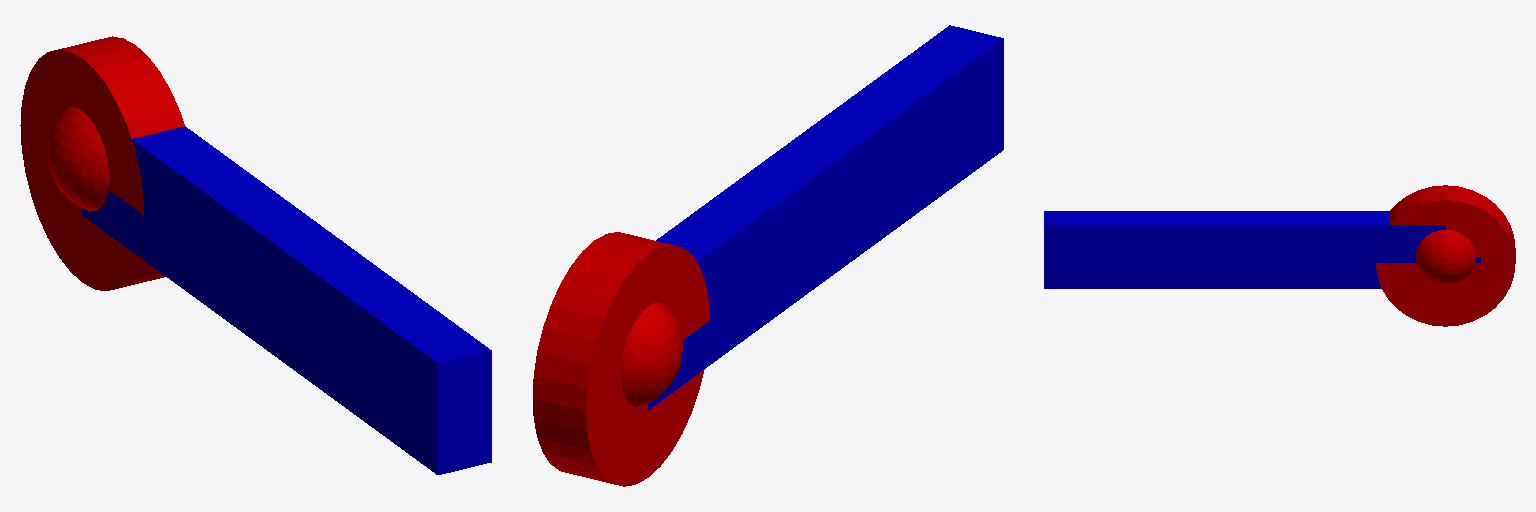
robot.urdf — TwoLinkStruct2718874759:
<?xml version="1.0"?>
<robot  name="TwoLinkStruct2718874759" >
 <material  name="blue" >
  <color  rgba="0 0 0.8 1.0" />
 </material>
 <material  name="red" >
  <color  rgba="0.8 0 0 1.0" />
 </material>
 <link  name="base_link" >
  <visual >
   <origin  rpy="0 1.5707 0"  xyz="0 0 0" />
   <material  name="red" />
   <geometry >
    <cylinder  length="0.05"  radius="0.1" />
   </geometry>
  </visual>
 </link>
 <joint  type="revolute"  name="joint1" >
  <parent  link="base_link" />
  <child  link="link1" />
  <origin  xyz="0 0 0"  rpy="0 0 0" />
  <axis  xyz="1 0 0" />
 </joint>
 <link  name="link1" >
  <inertial >
   <origin  rpy="0 0 0"  xyz="0 0 0.005" />
   <mass  value="0.005533807277679444" />
   <inertia  ixy="0.0"  iyy="2.3057530323664352e-06"  izz="1.1989915768305463e-06"  ixz="0.0"  ixx="1.1989915768305463e-06"  iyz="0.0" />
  </inertial>
  <visual >
   <origin  rpy="0 0 0"  xyz="0 0 0.005" />
   <material  name="blue" />
   <geometry >
    <box  size="0.05 0.1 0.01" />
   </geometry>
  </visual>
 </link>
 <joint  type="fixed"  name="joint-joint-1" >
  <parent  link="link1" />
  <child  link="joint-link-1" />
  <origin  xyz="0 0 0.01"  rpy="1.5707 0 0" />
  <axis  xyz="1 0 0" />
 </joint>
 <link  name="joint-link-1" >
  <inertial >
   <origin  rpy="0 0 0"  xyz="0 0 0" />
   <mass  value="4.482654808992403" />
   <inertia  ixy="0"  iyy="0"  izz="0"  ixz="0"  ixx="0"  iyz="0" />
  </inertial>
  <visual >
   <origin  rpy="0 0 0"  xyz="0 0 0" />
   <material  name="red" />
   <geometry >
    <sphere  radius="0.05" />
   </geometry>
  </visual>
 </link>
 <joint  type="revolute"  name="joint2" >
  <parent  link="link1" />
  <child  link="link2" />
  <origin  xyz="0 0 0.01"  rpy="1.5707 0 0" />
  <axis  xyz="1 0 0" />
 </joint>
 <link  name="link2" >
  <inertial >
   <origin  rpy="0 0 0"  xyz="0 0 0.28714118311990044" />
   <mass  value="1.4430100278215605" />
   <inertia  ixy="0.0"  iyy="2.3057530323664352e-06"  izz="0.00015324045544284957"  ixz="0.0"  ixx="0.00015324045544284957"  iyz="0.0" />
  </inertial>
  <visual >
   <origin  rpy="0 0 0"  xyz="0 0 0.28714118311990044" />
   <material  name="blue" />
   <geometry >
    <box  size="0.05 0.1 0.5742823662398009" />
   </geometry>
  </visual>
 </link>
 <joint  type="fixed"  name="eef_joint" >
  <parent  link="link2" />
  <child  link="eef" />
  <origin  xyz="0 0 0.5742823662398009"  rpy="0 0 0" />
 </joint>
 <link  name="eef" >
  <inertial >
   <origin  rpy="0 0 0"  xyz="0 0 0" />
   <mass  value="1" />
   <inertia  ixy="0"  iyy="0"  izz="0"  ixz="0"  ixx="0"  iyz="0" />
  </inertial>
 </link>
 <transmission  name="motor1" >
  <type  xmltext="SimpleTransmission" >
   SimpleTransmission
  </type>
  <actuator  name="motor1" >
   <mechanicalreduction  xmltext="1" >
    1
   </mechanicalreduction>
  </actuator>
  <joint  name="joint1" />
 </transmission>
 <transmission  name="motor2" >
  <type  xmltext="SimpleTransmission" >
   SimpleTransmission
  </type>
  <actuator  name="motor2" >
   <mechanicalreduction  xmltext="1" >
    1
   </mechanicalreduction>
  </actuator>
  <joint  name="joint2" />
 </transmission>
</robot>

<!-- {'carti': array([-0.1 ,  0.14,  0.85]), 'cartd': array([-0.1 ,  0.32,  1.29]), 'tau_mu': 0.0, 'b0': 0.0, 'Km': 3.270332669464261, 'k_velocity': 77.27714179692104, 'tau_max_m': 0.001, 'omega_max_m': 1000.0, 'gear_ratio': 18.695785157274933, 'Kp': 0.0, 'Kd': 100.0, 'm_m': 4.482654808992403, 'l1': 0.01, 'l2': 0.5742823662398009, 'k1': 30900.0, 'k2': 1000.0, 'k3': 1000.0}-->

--- Render facts (derived) ---
3 views of the same robot in one strip: view 1: azimuth 30°, elevation 25°; view 2: azimuth 150°, elevation 25°; view 3: azimuth 270°, elevation 25° (orthographic).
Model TwoLinkStruct2718874759 with 5 links and 4 joints (2 revolute, 2 fixed), rooted at base_link, posed every joint at zero.
Visible links, largest first — view 1: link2, base_link, joint-link-1; view 2: link2, base_link, joint-link-1; view 3: link2, base_link, joint-link-1.
Boxes of the visible links, x1=… form: link2: x1=82, y1=126, x2=491, y2=474; base_link: x1=20, y1=36, x2=184, y2=290; joint-link-1: x1=47, y1=107, x2=108, y2=210; link2: x1=648, y1=25, x2=1003, y2=409; base_link: x1=533, y1=232, x2=709, y2=486; joint-link-1: x1=621, y1=302, x2=682, y2=406; link2: x1=1044, y1=211, x2=1445, y2=288; base_link: x1=1376, y1=185, x2=1515, y2=326; joint-link-1: x1=1416, y1=230, x2=1475, y2=283.
Size in the robot's own frame: 0.1 by 0.6743 by 0.2 metres.
Geometry: primitives only (box / cylinder / sphere), no mesh files.
